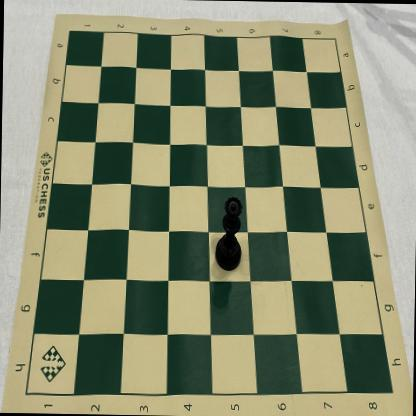queen: (214, 195, 242, 272)
